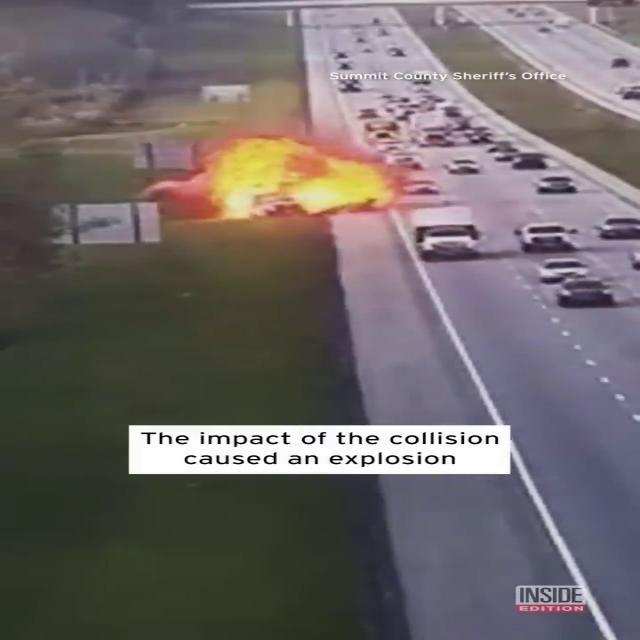Fire: (176, 133, 406, 219)
